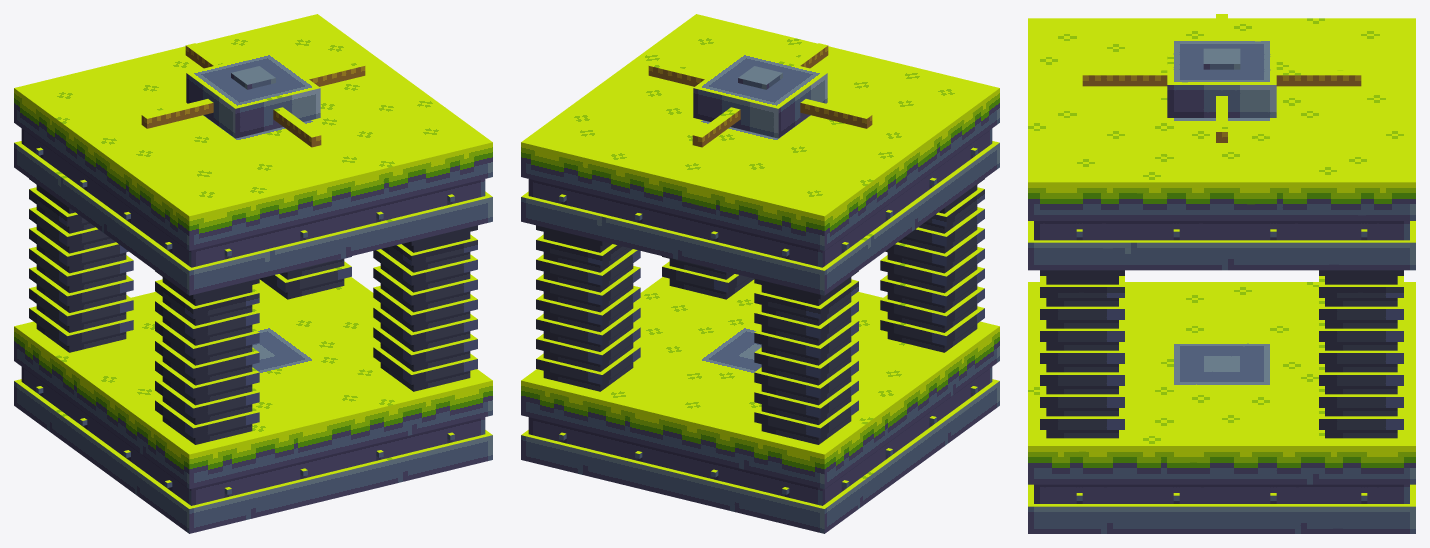
File: extractorao.fezao.glb
The picture shows the model from 3 angles, left to right: view 1: azimuth 30°, elevation 25°; view 2: azimuth 150°, elevation 25°; view 3: azimuth 270°, elevation 25°; orthographic projection. The views are drawn at different scales.
Visible parts, largest first — view 1: EXTRACTORAO; view 2: EXTRACTORAO; view 3: EXTRACTORAO.
Boxes of the visible parts, box(x1,y1,x2,y2) form: EXTRACTORAO: box(14, 14, 492, 533); EXTRACTORAO: box(521, 14, 999, 533); EXTRACTORAO: box(1028, 14, 1415, 533).
Size of the model in its own units: 4 by 4.5 by 4.
Materials: 1 (1 with a texture image).
